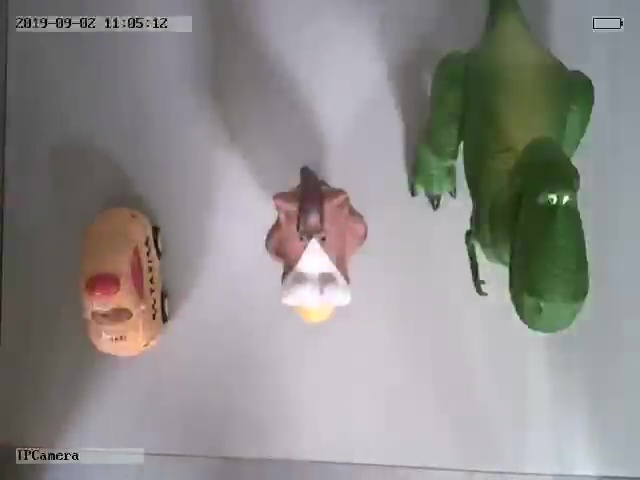car: (78, 205, 170, 358)
horse: (263, 164, 368, 323)
rex: (409, 8, 596, 333)
